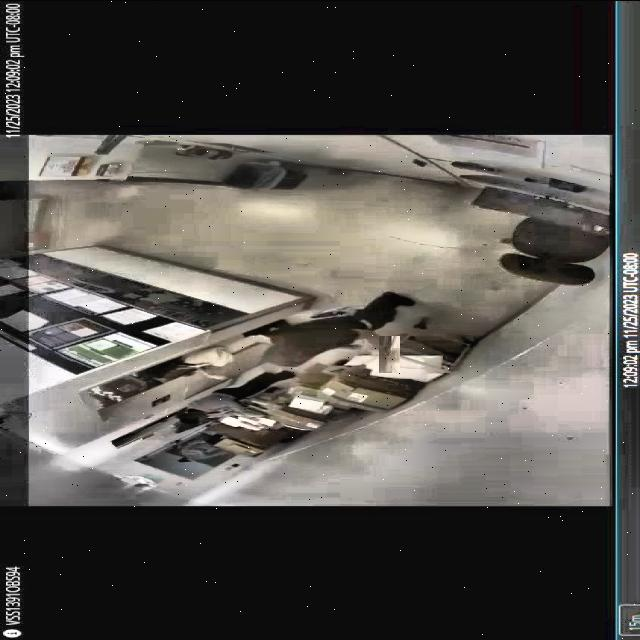not-gloved: (374, 338, 404, 368)
